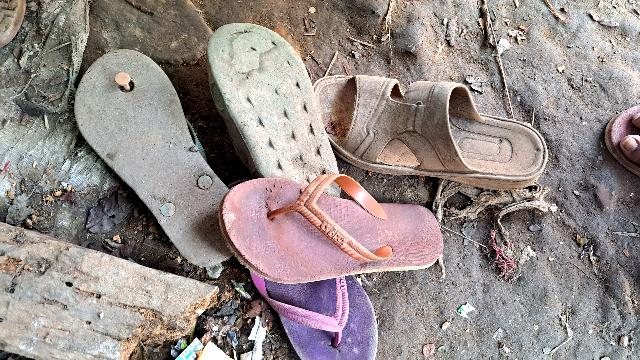sandal: (49, 32, 279, 283), (183, 6, 367, 263), (223, 176, 464, 300), (308, 79, 559, 188), (255, 246, 391, 360)
